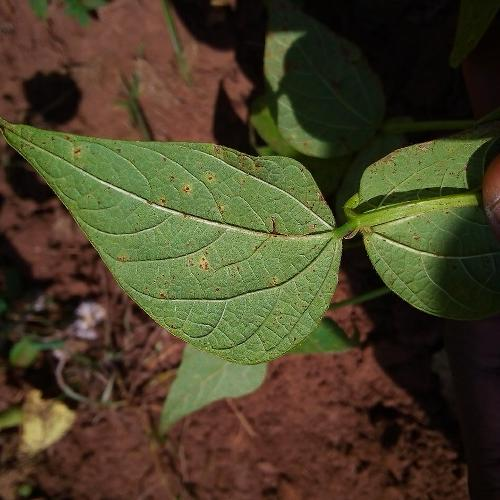hawar: (189, 134, 293, 192), (176, 241, 228, 299), (134, 186, 196, 222)
